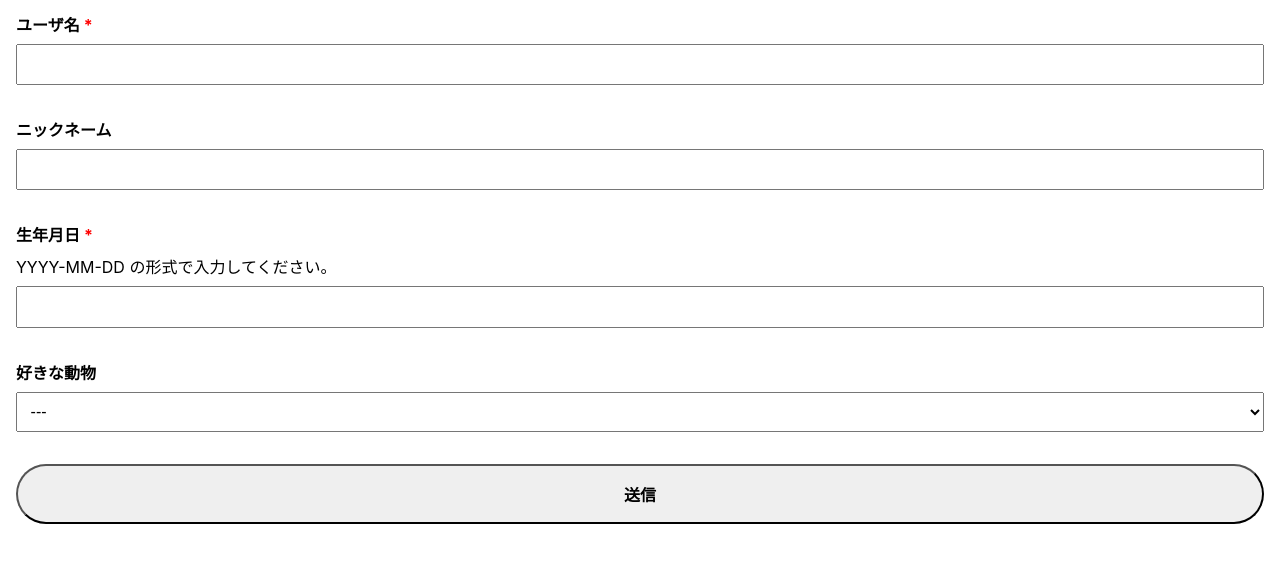
Test: RegisterForm › ユーザ名のバリデーション › 必須項目 › 入力していないと、エラーになって送信できない
The width and height of the screenshot is (1280, 573).
Step 1. Type "たろちゃん" into the field labelled "ニックネーム" → (640, 170), box [16, 149, 1264, 190]
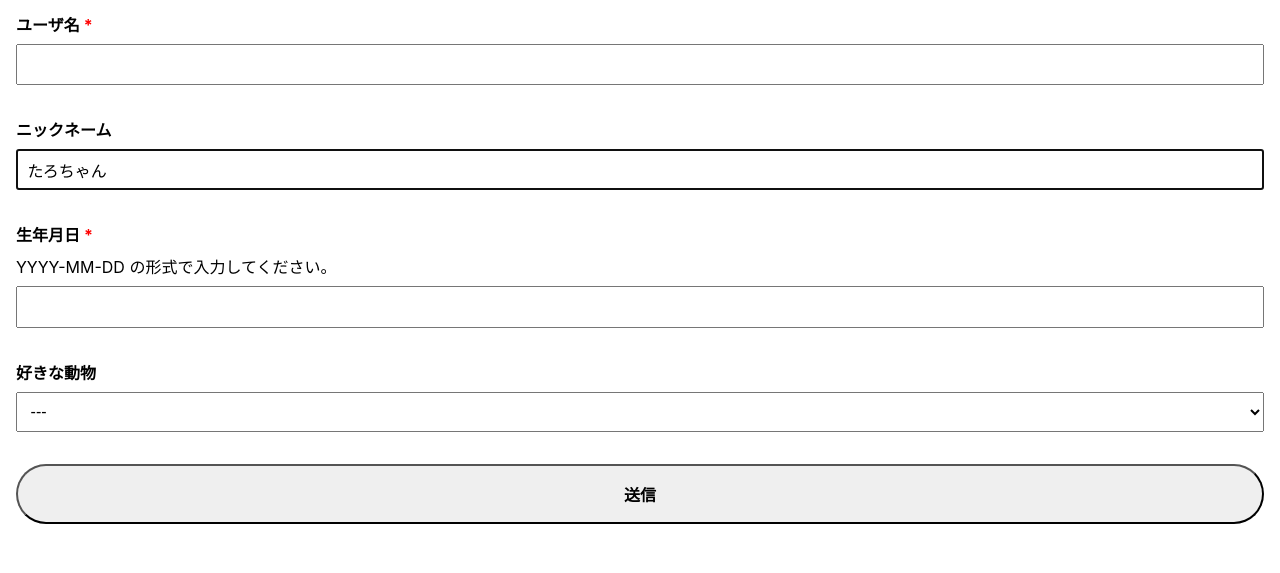
Step 2. Type "1996-06-10" into the field labelled "生年月日" → (640, 307), box [16, 286, 1264, 328]
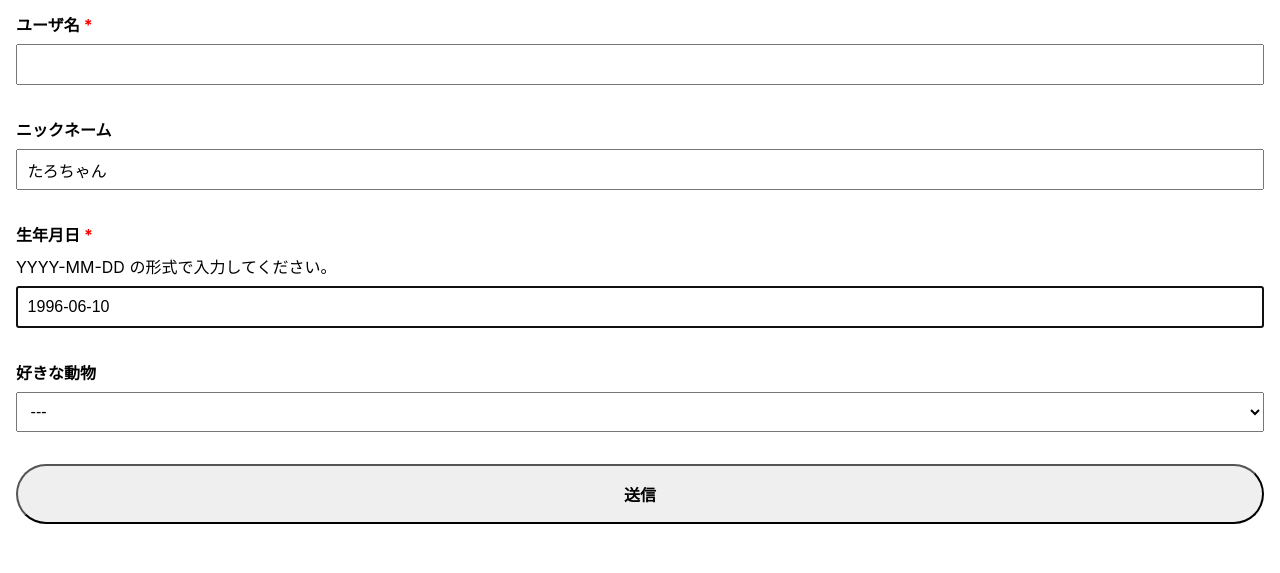
Step 3. Select "イヌ" in the dropdown labelled "好きな動物" → (640, 412), box [16, 392, 1264, 432]
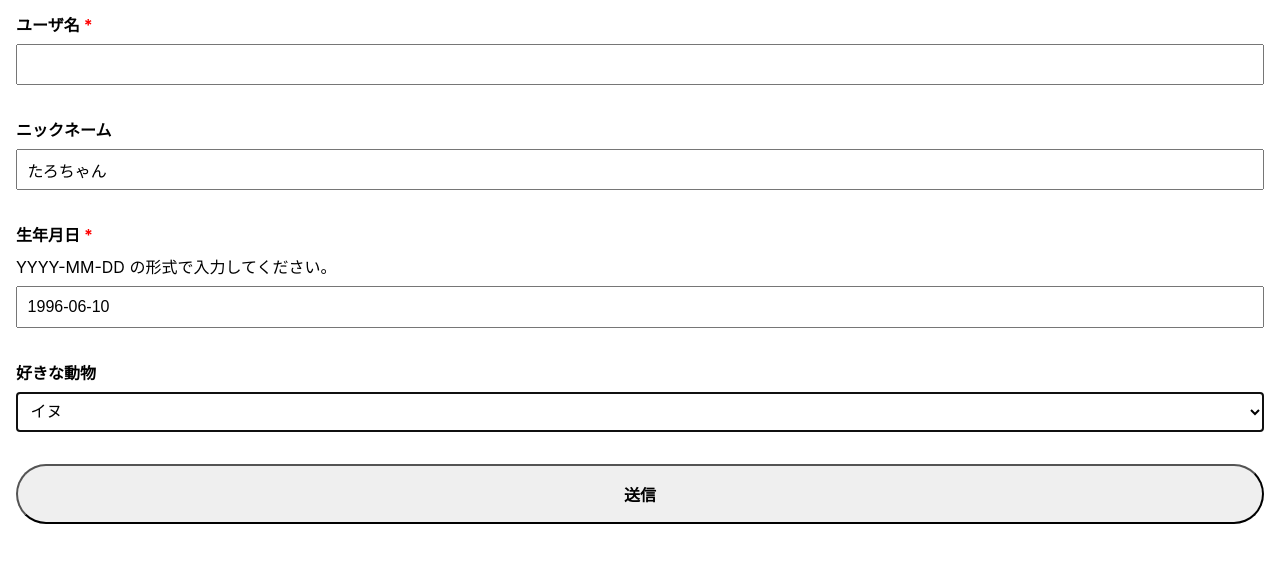
Step 4. Click the button "送信" → (640, 494), box [16, 464, 1264, 524]
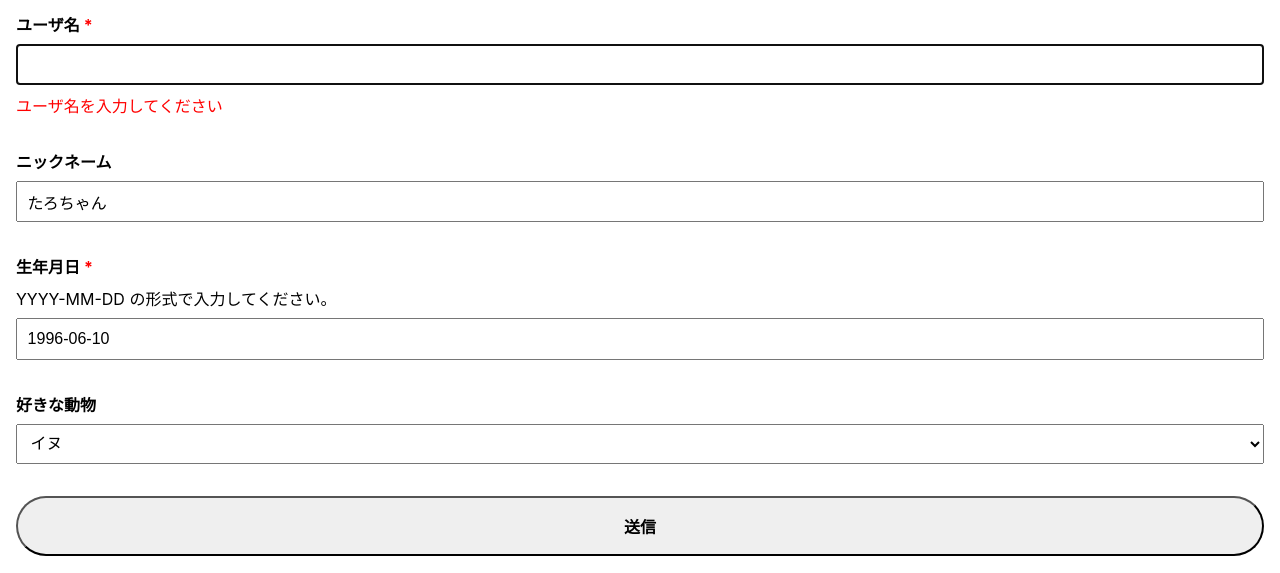
Result: the text "ユーザ名を入力してください" is shown at [16, 96, 223, 116]
